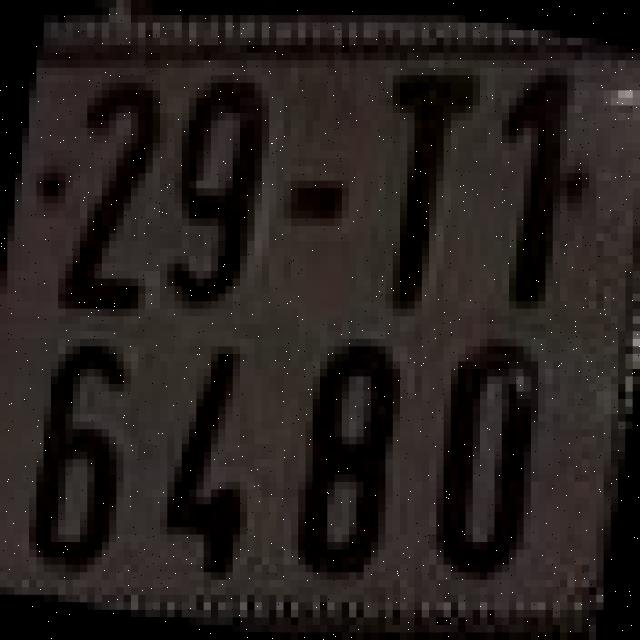0: (429, 335, 546, 576)
1: (495, 68, 589, 308)
2: (58, 79, 160, 313)
4: (160, 339, 255, 580)
6: (29, 339, 131, 572)
8: (291, 335, 400, 576)
9: (167, 75, 269, 309)
T: (374, 64, 484, 312)
